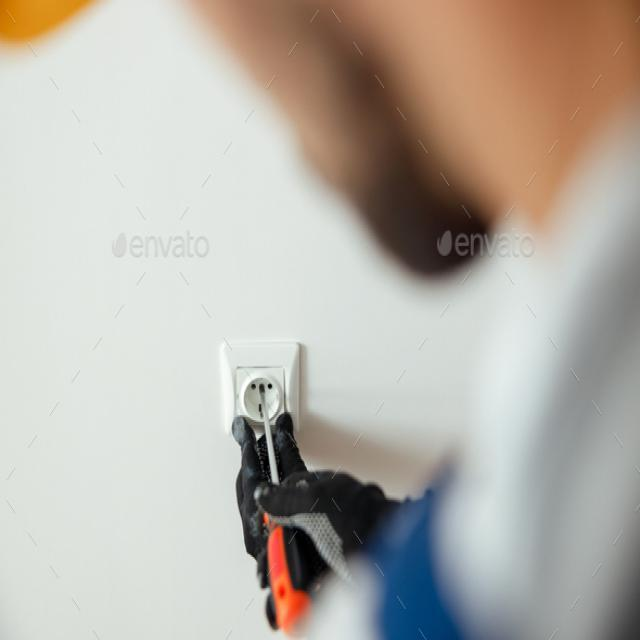screwdriver: (252, 372, 316, 636)
